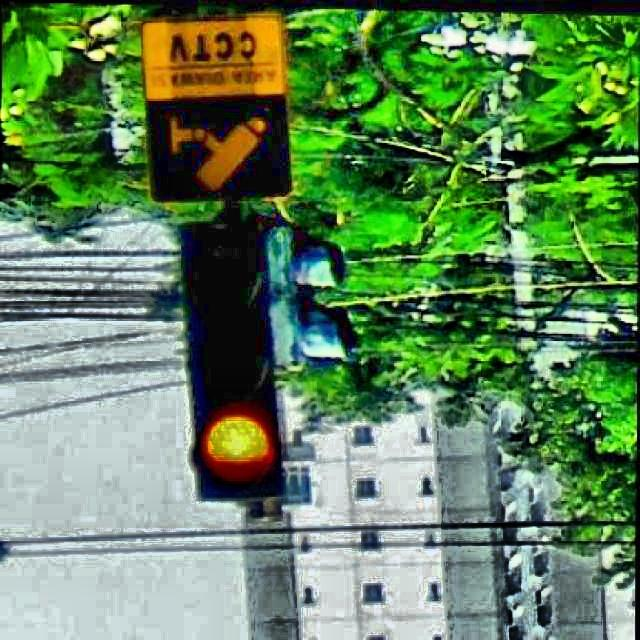red: (180, 220, 284, 507)
